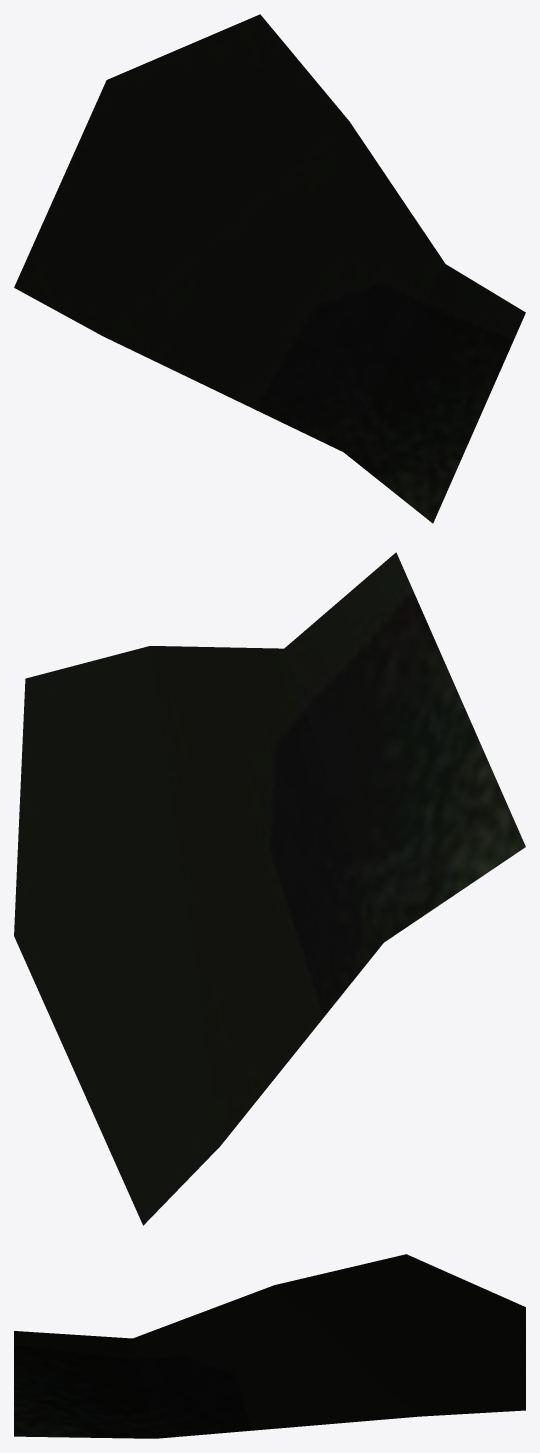
The picture shows the model from 3 angles, top to bottom: view 1: azimuth 30°, elevation 25°; view 2: azimuth 150°, elevation 25°; view 3: azimuth 270°, elevation 25°; orthographic projection. The views are drawn at different scales.
Bounding box in the file's own units: 1.62 × 2.75 × 5.9.
1 material, 1 textured.
